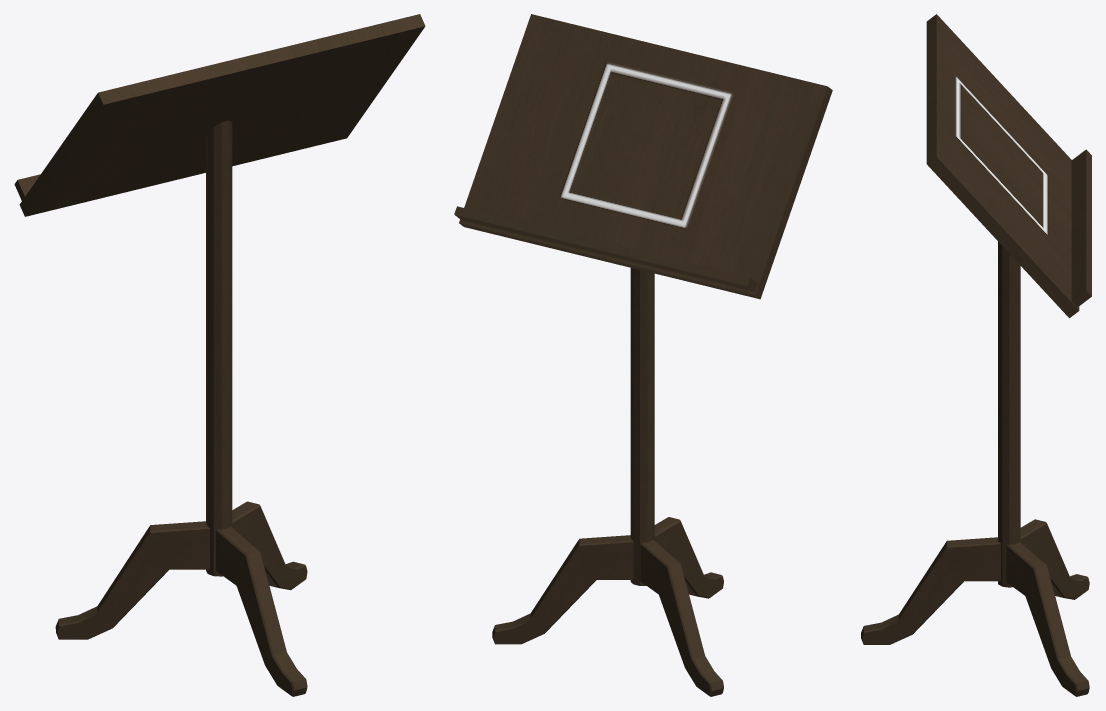
The model's file is lectern2.glb.
The picture shows the model from 3 angles, left to right: view 1: azimuth 30°, elevation 25°; view 2: azimuth 150°, elevation 25°; view 3: azimuth 270°, elevation 25°; orthographic projection. The views are drawn at different scales.
Visible parts, largest first — view 1: lectern2; view 2: lectern2; view 3: lectern2.
Boxes of the visible parts, left/top/right/bottom form: lectern2: left=14, top=14, right=425, bottom=696; lectern2: left=454, top=14, right=832, bottom=696; lectern2: left=861, top=14, right=1091, bottom=696.
Size of the model in its own units: 0.7931 by 1.44 by 0.5419.
Materials: 1 (1 with a texture image).
